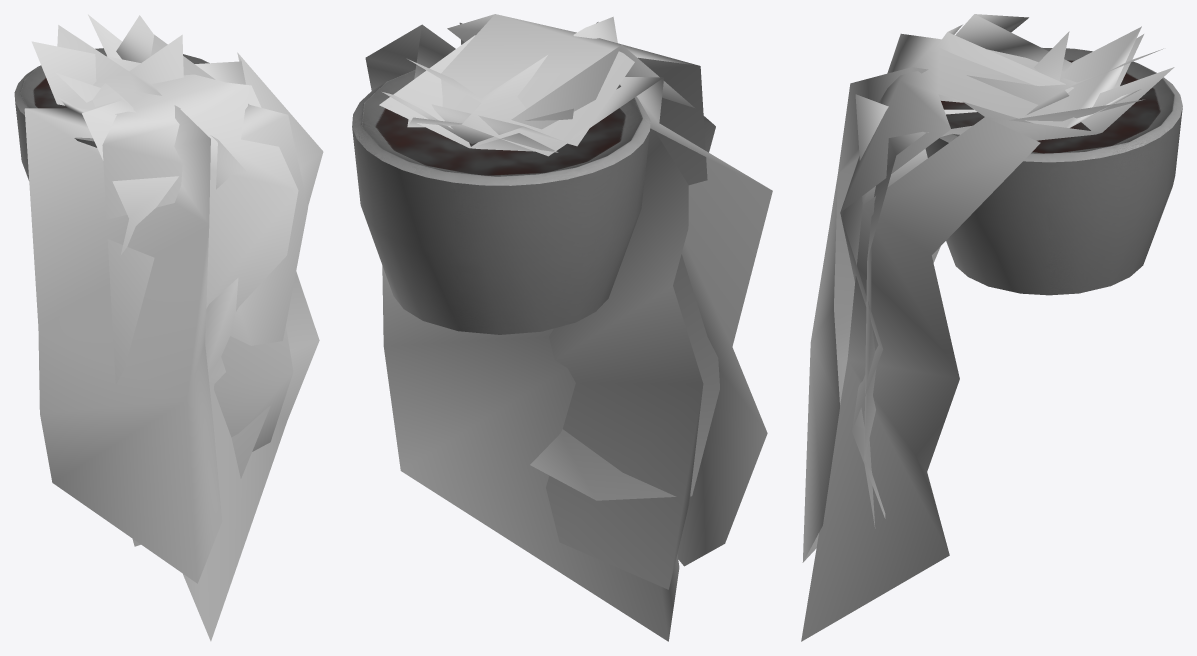
Rendered from vine 1.fbx.
3 views of the same model, side by side, from view 1: azimuth 30°, elevation 25°; view 2: azimuth 150°, elevation 25°; view 3: azimuth 270°, elevation 25° (orthographic). The views are drawn at different scales.
Visible parts, largest first — view 1: Plane.016, Cylinder.022; view 2: Plane.016, Cylinder.022; view 3: Plane.016, Cylinder.022.
Boxes of the visible parts, x1,y1,x2,y2 form: Plane.016: (24,14,323,641); Cylinder.022: (14,48,209,180); Plane.016: (365,14,772,641); Cylinder.022: (352,70,650,334); Plane.016: (801,14,1174,641); Cylinder.022: (925,47,1182,295).
Bounding box in the file's own units: 86.92 × 141 × 81.98.
2 materials, 1 textured.
